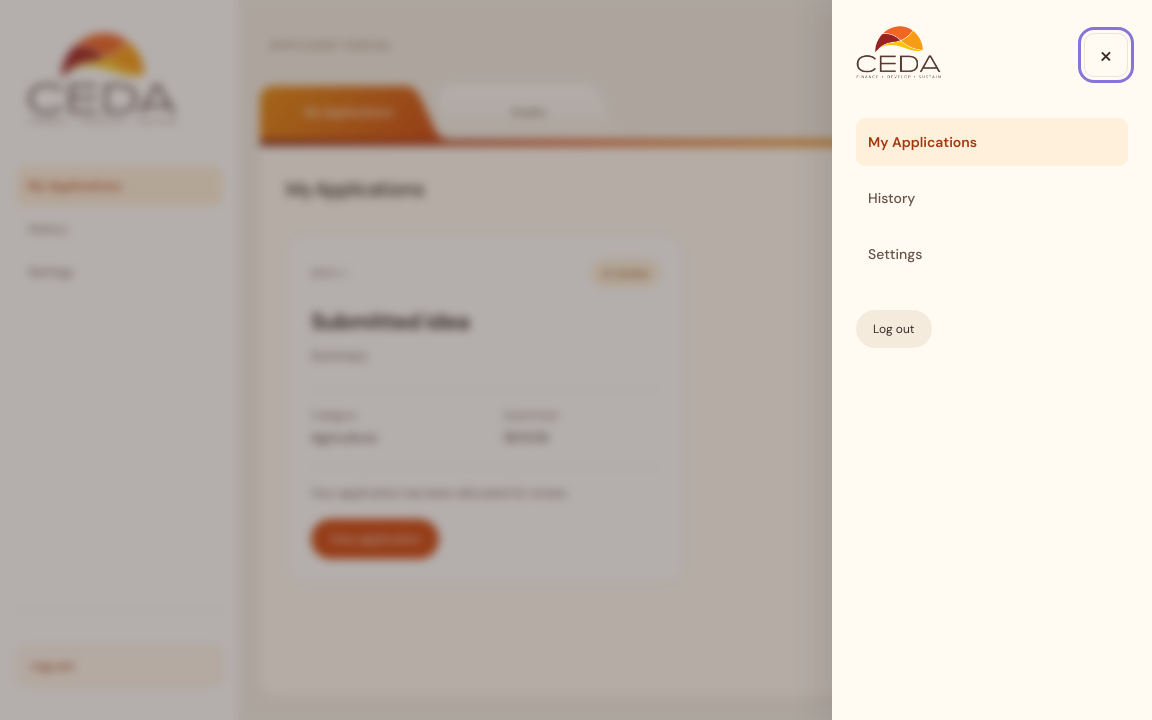
Test: shows submitted applications in history without including drafts and opens their saved content
Earlier steps of the test are not shown.
Click the button "History" at (892, 198), box [856, 174, 1128, 222]
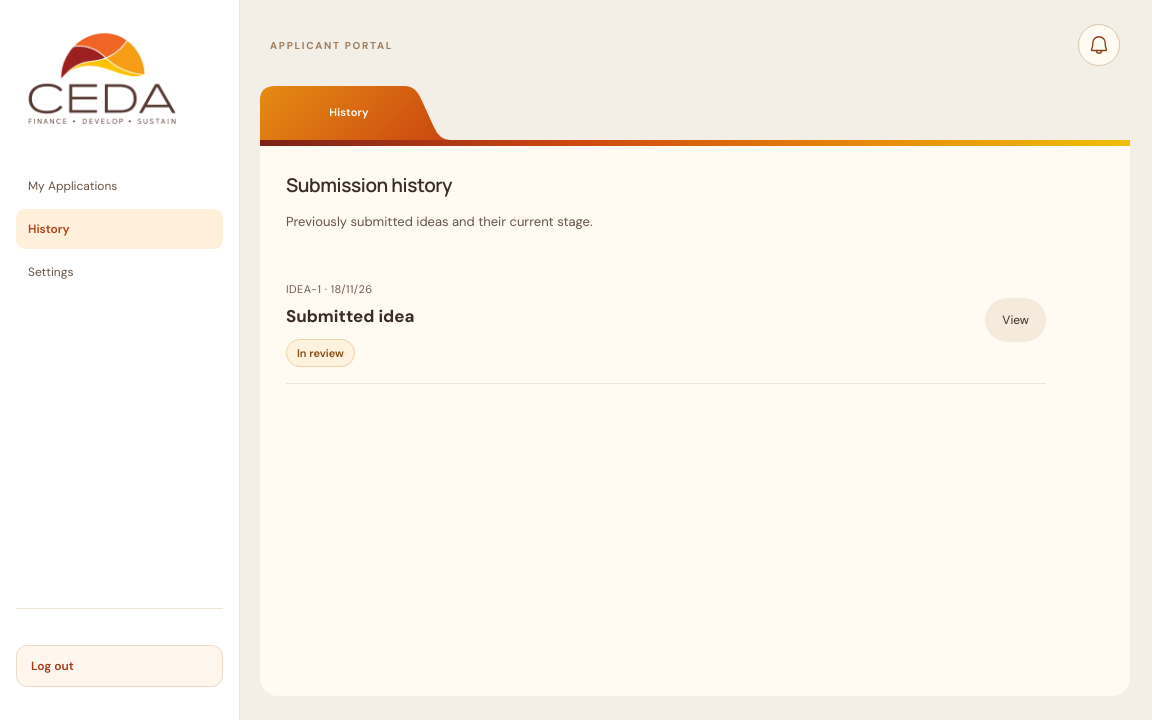
Check: the text "In review" is shown, box [286, 339, 355, 367]
Click the button with aria-label "View Submitted idea" at (1016, 320), box [985, 298, 1046, 342]
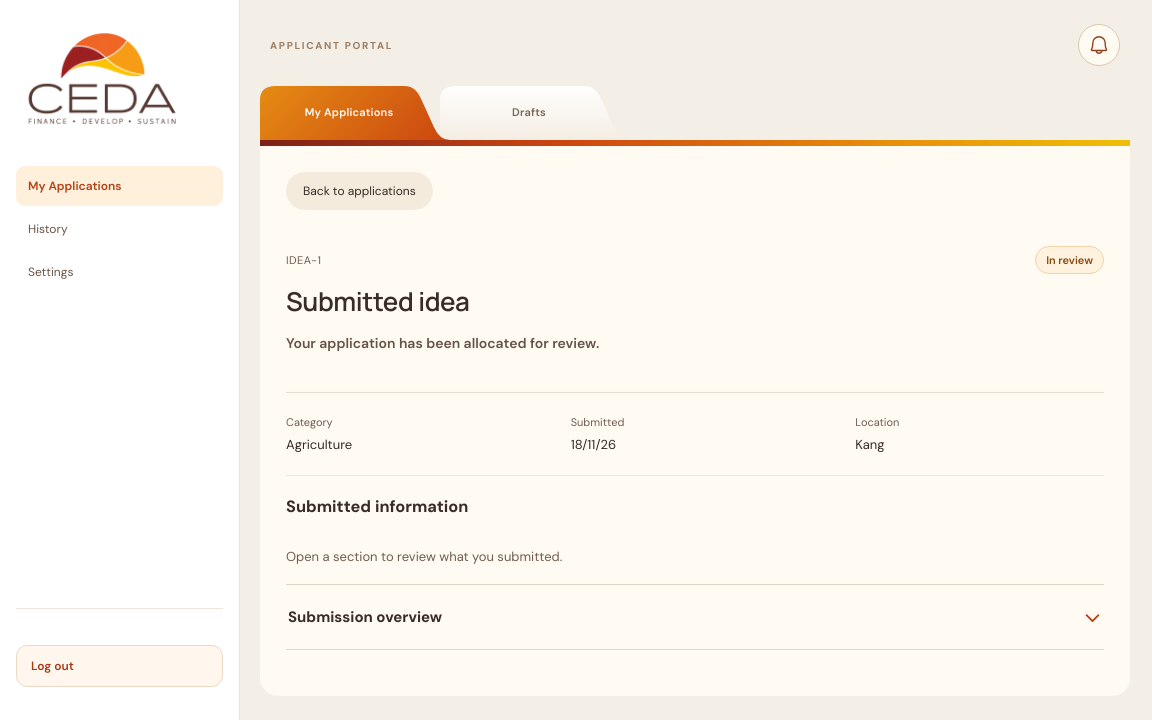
Check: the text "Submission overview" is shown, box [288, 607, 442, 627]
